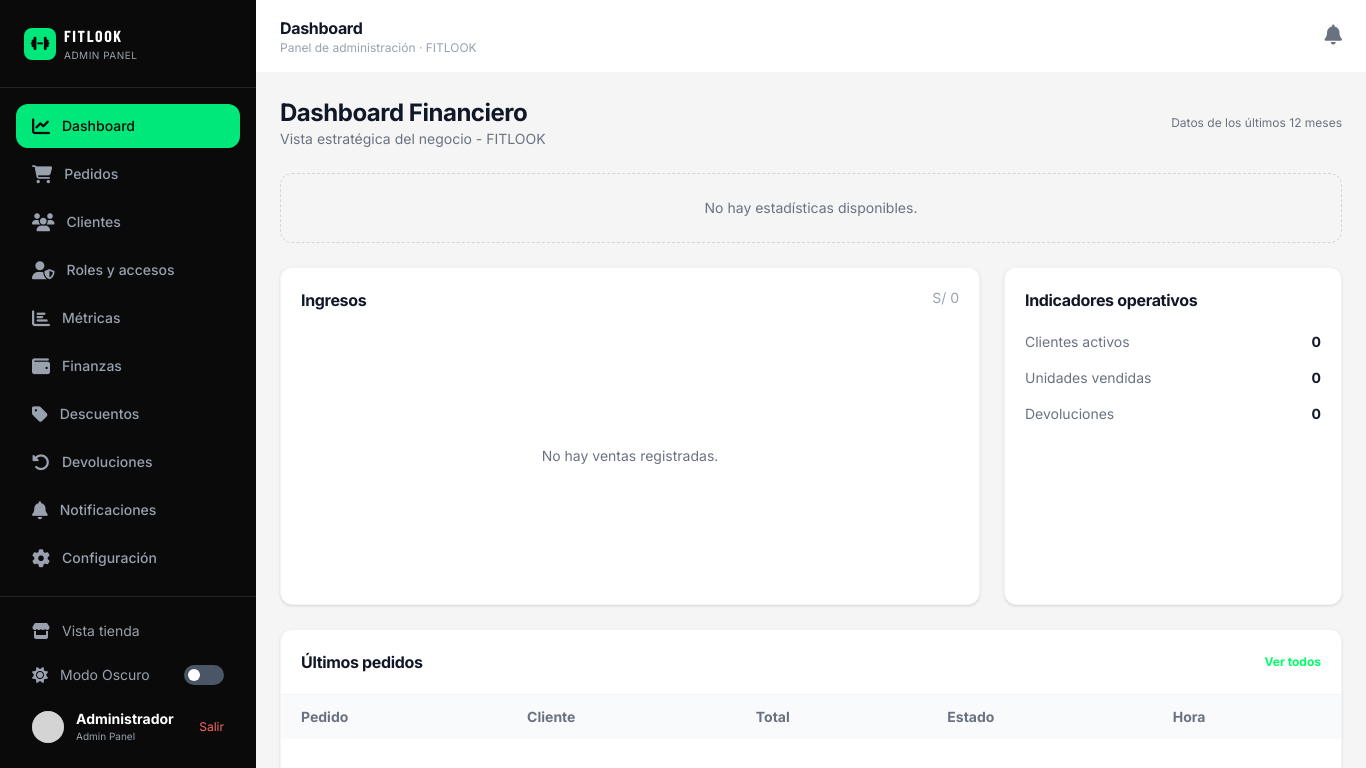
Test: AdminDashboard › navega a la vista de pedidos desde el sidebar
The width and height of the screenshot is (1366, 768).
Click the button "Pedidos". click: (128, 174)
box: [16,152,240,196]
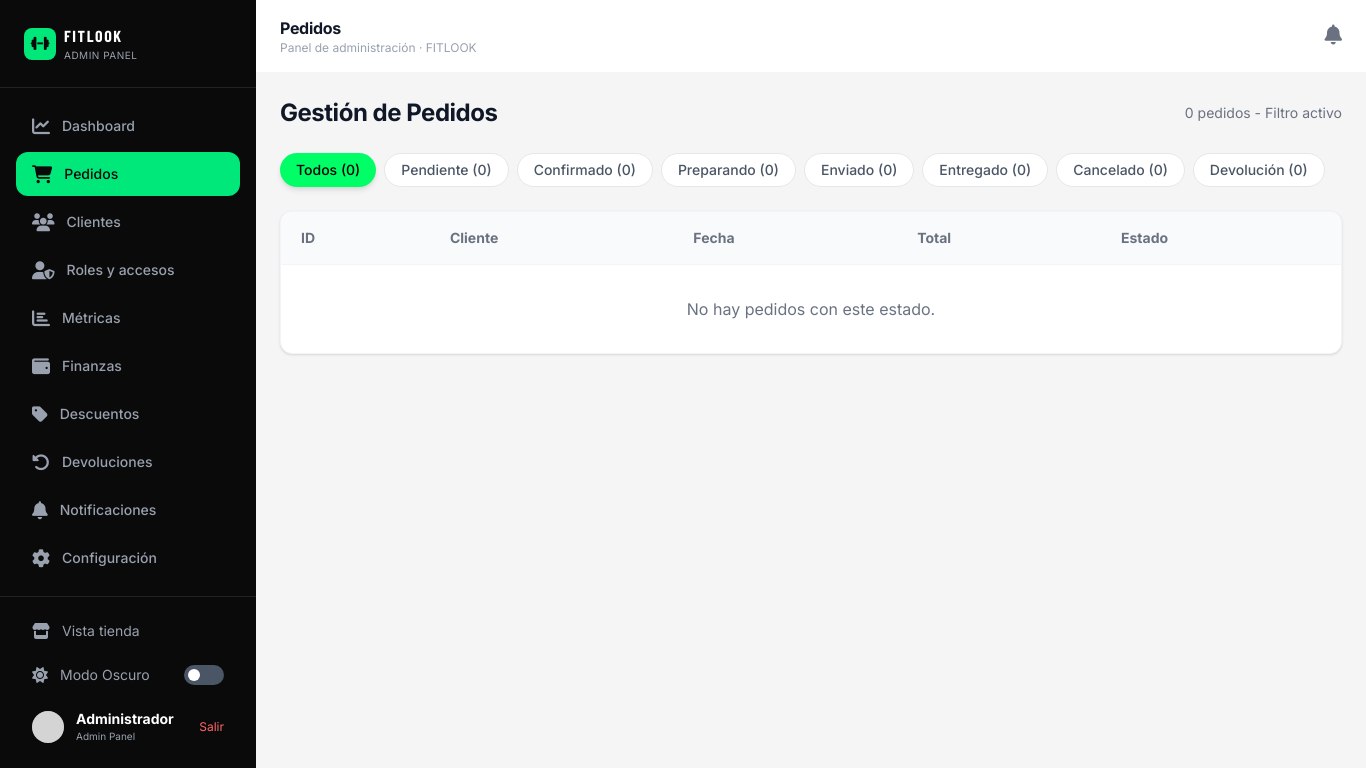
Expected: the heading "Gestión de Pedidos" is shown, [280,97,497,129]
Expected: the text "No hay pedidos con este estado." is shown, [687,299,935,319]
